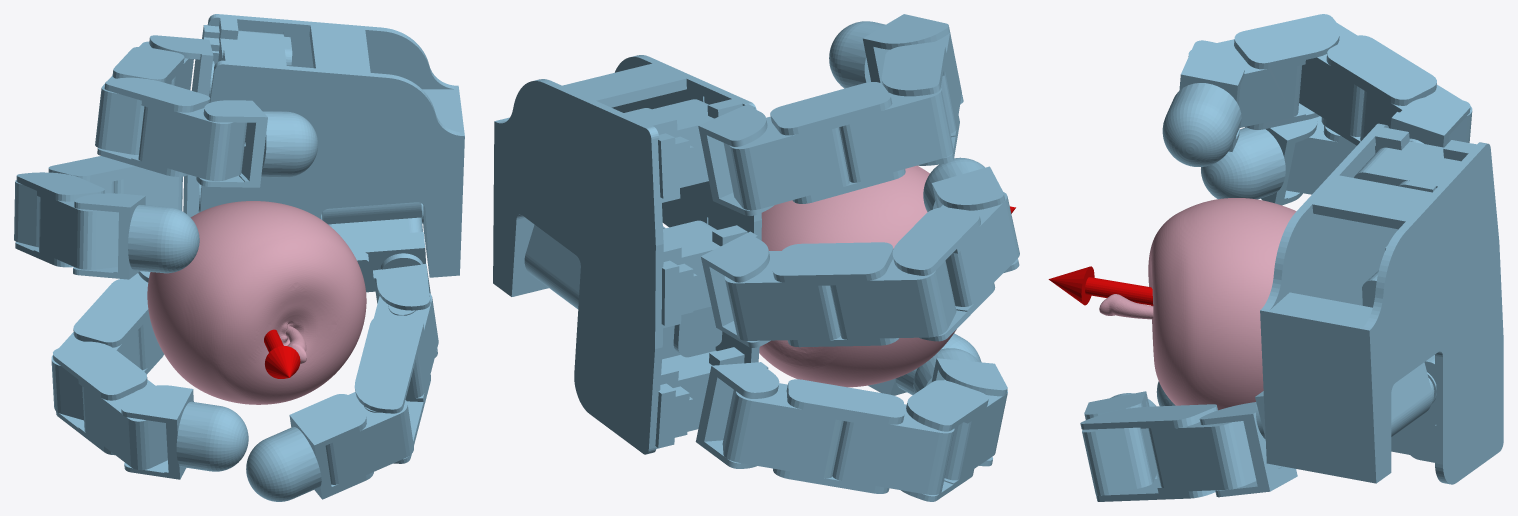
The picture shows the model from 3 angles, left to right: view 1: azimuth 30°, elevation 25°; view 2: azimuth 150°, elevation 25°; view 3: azimuth 270°, elevation 25°; orthographic projection. The views are drawn at different scales.
Parts seen in each view (by area): view 1: world, apple.stl; view 2: world, apple.stl; view 3: world, apple.stl.
Part boxes in pixels (<box>): world: <box>14,14,464,501</box>; apple.stl: <box>147,201,366,404</box>; world: <box>493,14,1019,501</box>; apple.stl: <box>759,165,956,387</box>; world: <box>1048,14,1503,501</box>; apple.stl: <box>1099,198,1296,410</box>.
Size of the model in its own units: 0.1779 by 0.1484 by 0.1514.
